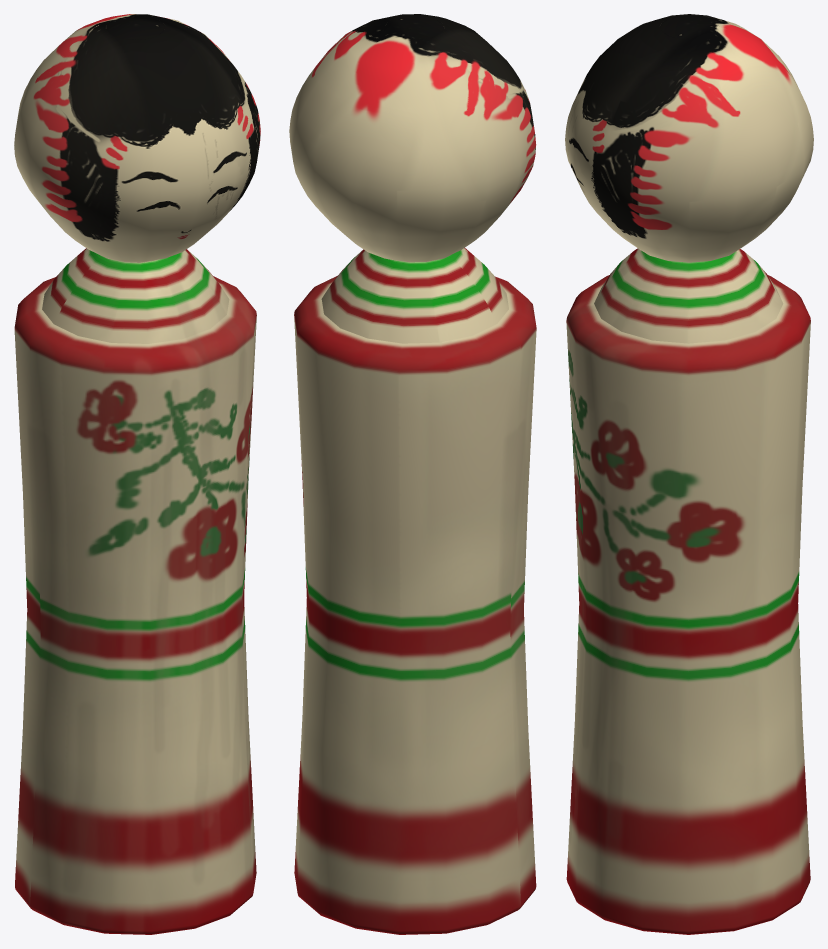
File: kokeshi.fbx
The picture shows the model from 3 angles, left to right: view 1: azimuth 30°, elevation 25°; view 2: azimuth 150°, elevation 25°; view 3: azimuth 270°, elevation 25°; orthographic projection.
Visible parts, largest first — view 1: kokeshi; view 2: kokeshi; view 3: kokeshi.
Part boxes in pixels (x1,y1,x2,y2): kokeshi: (14,14,260,934); kokeshi: (289,14,536,934); kokeshi: (565,14,813,934).
Size of the model in its own units: 6.33 by 24.15 by 6.32.
